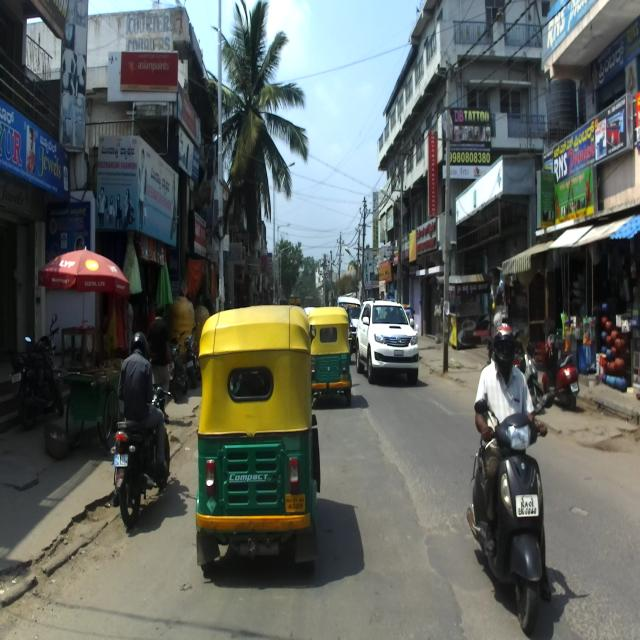auto ahead at: (196, 314, 316, 562), (313, 313, 352, 394)
car ahead at: (356, 303, 420, 373)
motorcycle ahead at: (470, 398, 550, 622), (111, 406, 173, 528)
